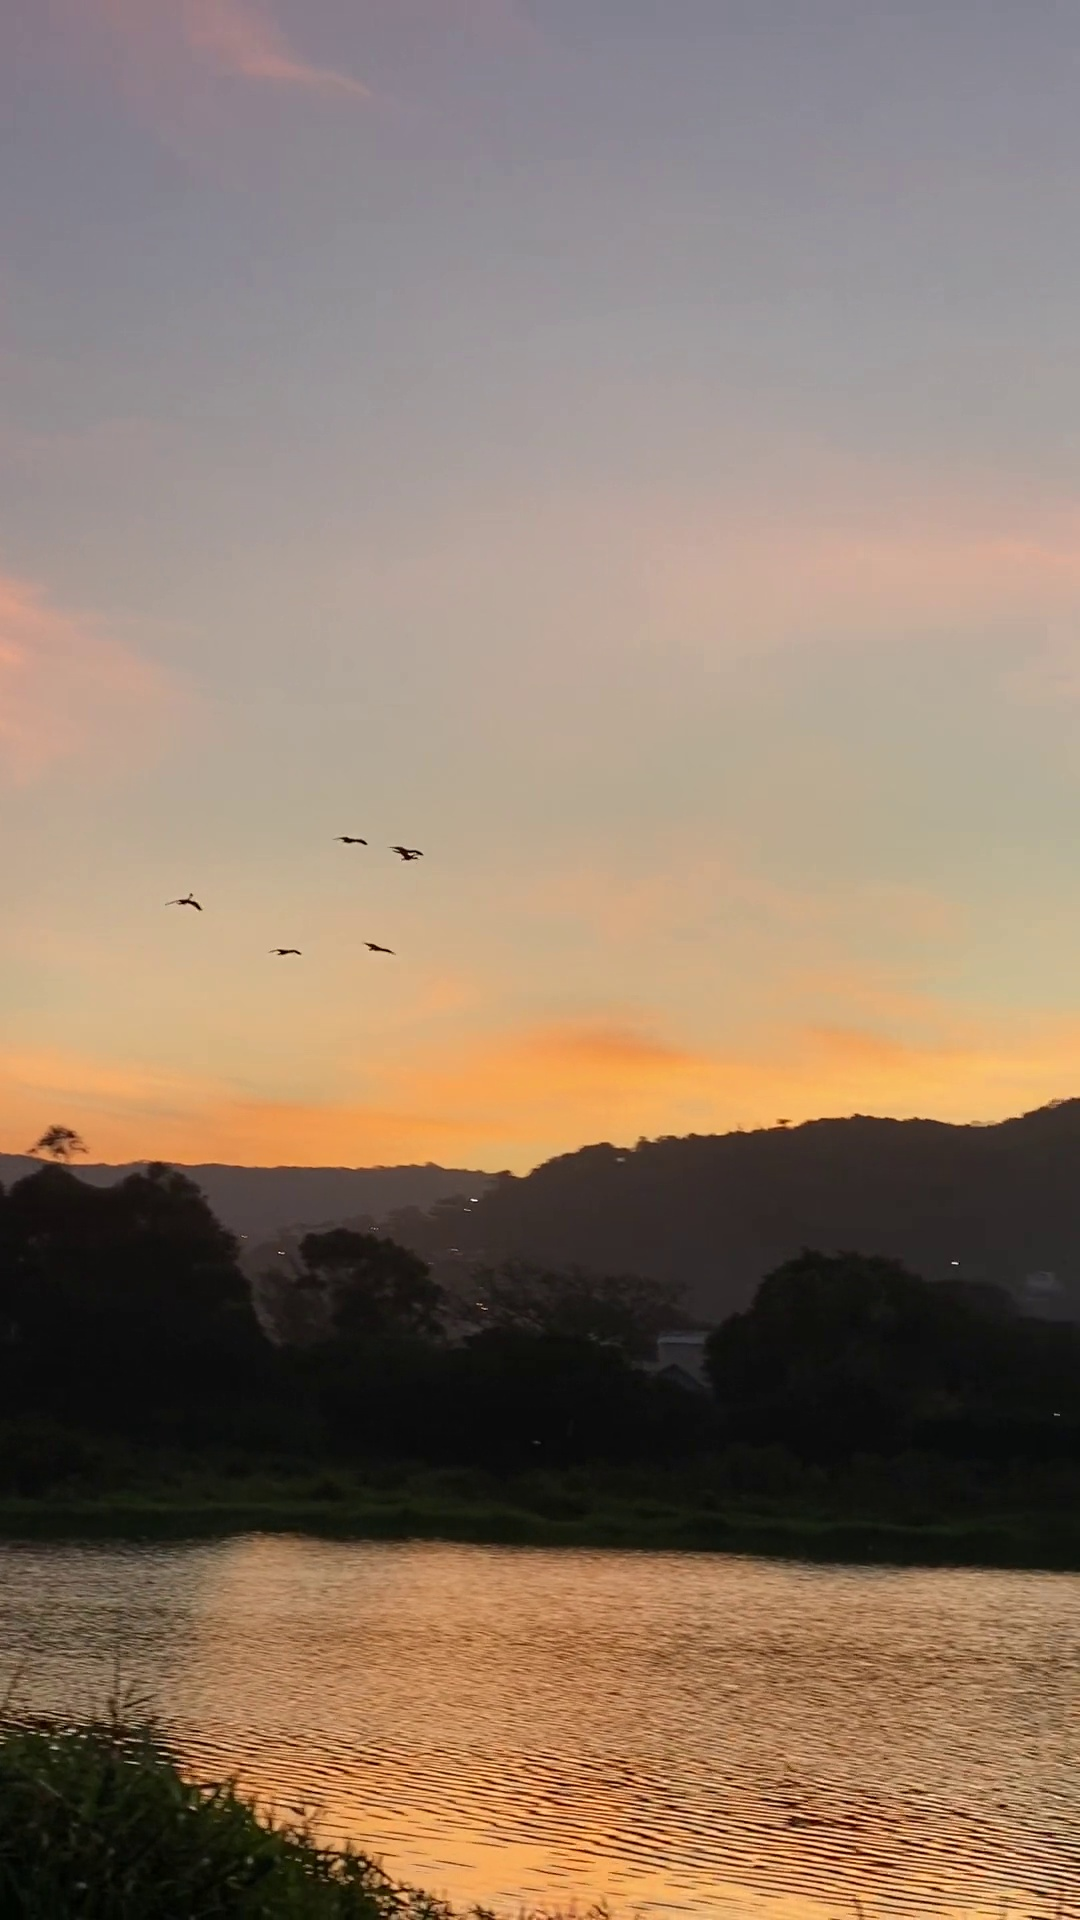bird: (166, 893, 200, 911), (393, 844, 422, 862), (334, 833, 367, 845), (363, 942, 396, 953), (266, 947, 301, 955)
